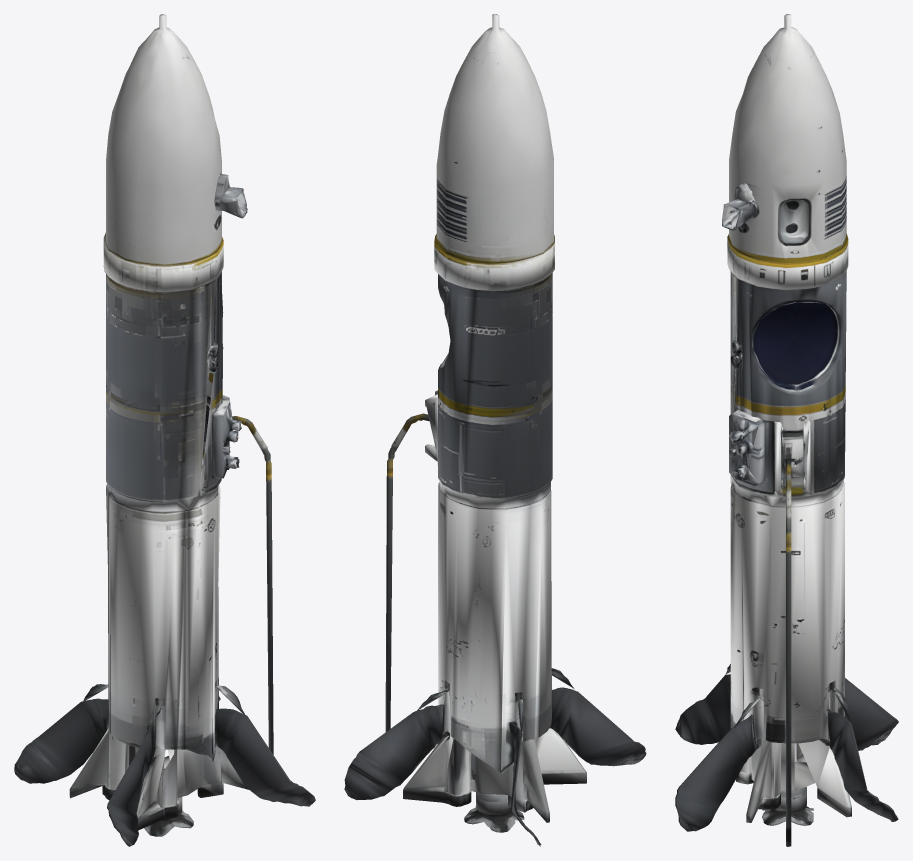
File: orbital-launch-vehicle.glb
3 renders of one model, left to right at view 1: azimuth 30°, elevation 25°; view 2: azimuth 150°, elevation 25°; view 3: azimuth 270°, elevation 25°, orthographic.
Visible parts, largest first — view 1: tripo_node_6225d106-c63c-47db-8243-8d19ee6d6ae0; view 2: tripo_node_6225d106-c63c-47db-8243-8d19ee6d6ae0; view 3: tripo_node_6225d106-c63c-47db-8243-8d19ee6d6ae0.
Part boxes in pixels (x1,y1,x2,y2): tripo_node_6225d106-c63c-47db-8243-8d19ee6d6ae0: (14,14,315,846); tripo_node_6225d106-c63c-47db-8243-8d19ee6d6ae0: (344,14,646,846); tripo_node_6225d106-c63c-47db-8243-8d19ee6d6ae0: (675,14,898,846).
Size of the model in its own units: 0.2715 by 0.998 by 0.252.
Materials: 1 (1 with a texture image).
